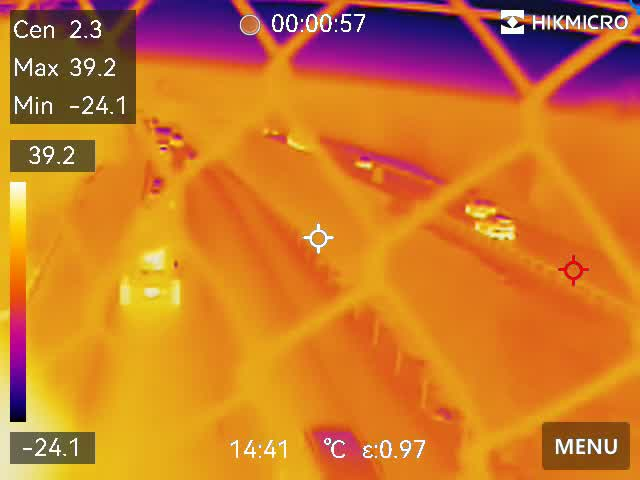vehicle: (467, 214, 519, 240), (462, 197, 495, 218), (348, 153, 376, 174)
